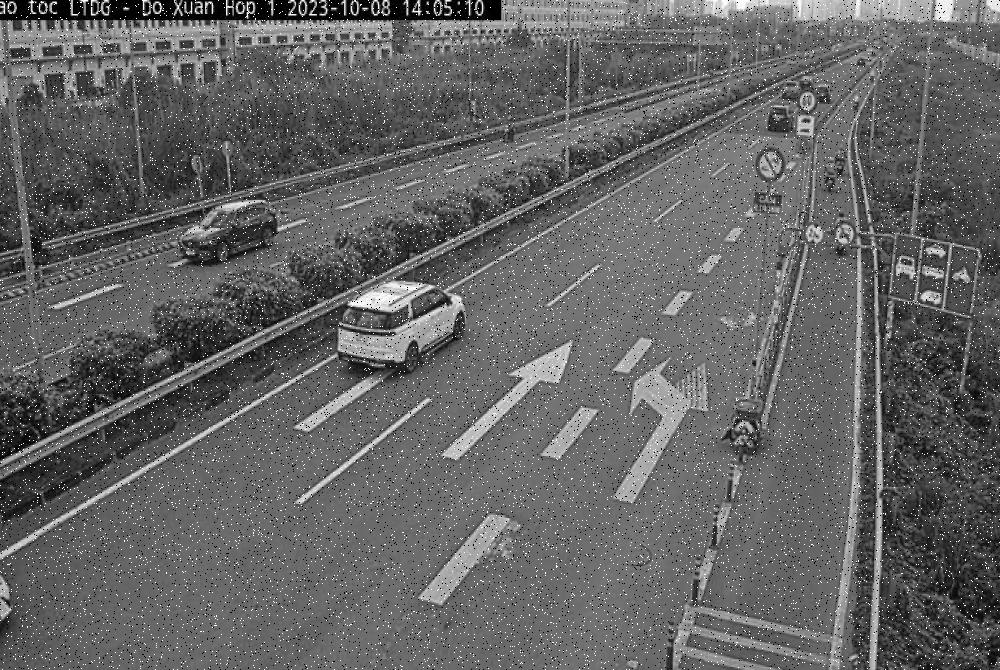car: (339, 279, 469, 376), (180, 199, 280, 267), (768, 104, 796, 132), (782, 79, 802, 101), (815, 81, 832, 104)
